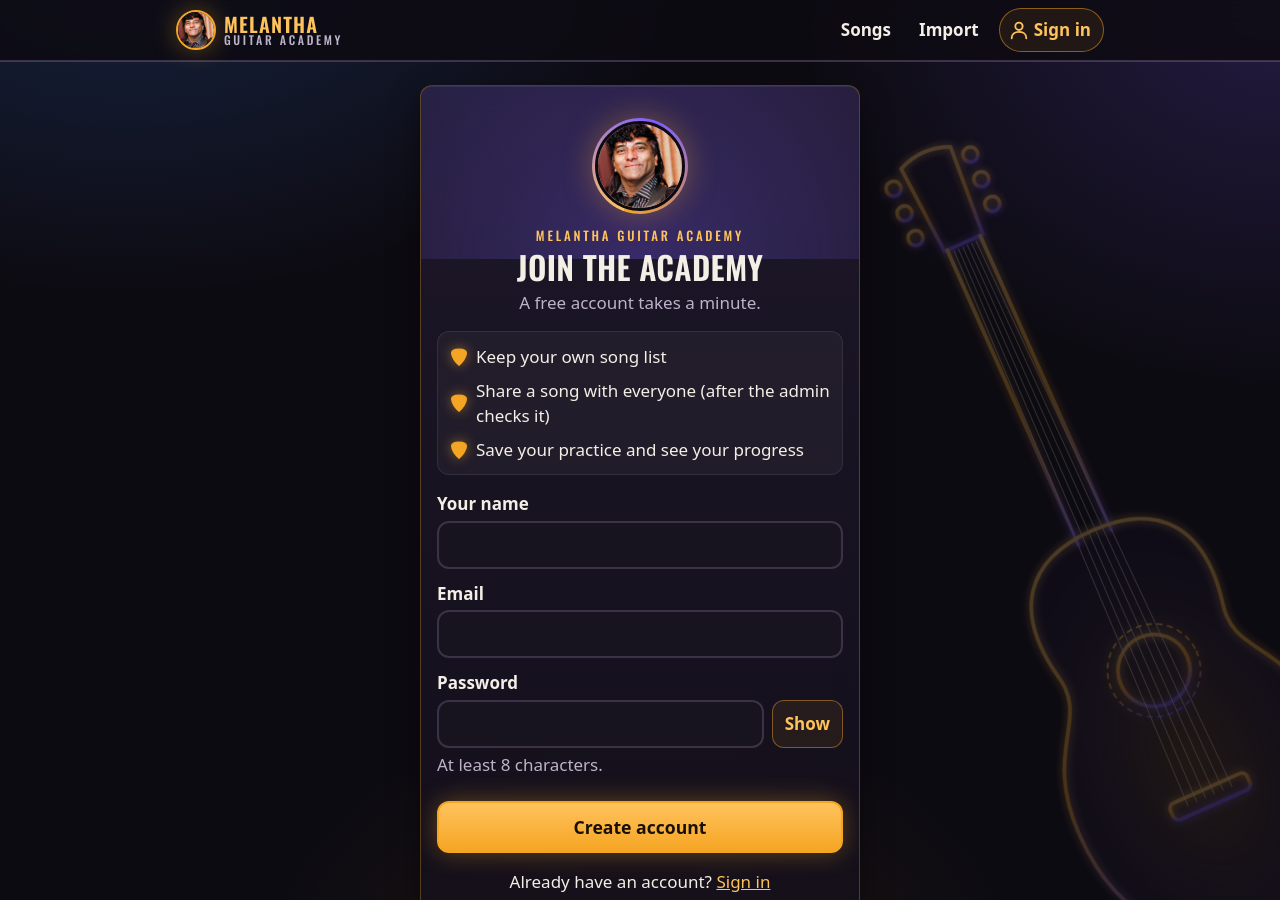
Test case: accounts › creates an account: sends name, email and password, then shows the initials and a welcome
Expected: the heading "Join the academy" is shown, [517,243,763,290]
Step 1. Type "Isura Perera" into the field labelled "Your name" → (640, 545), box [437,521,843,569]
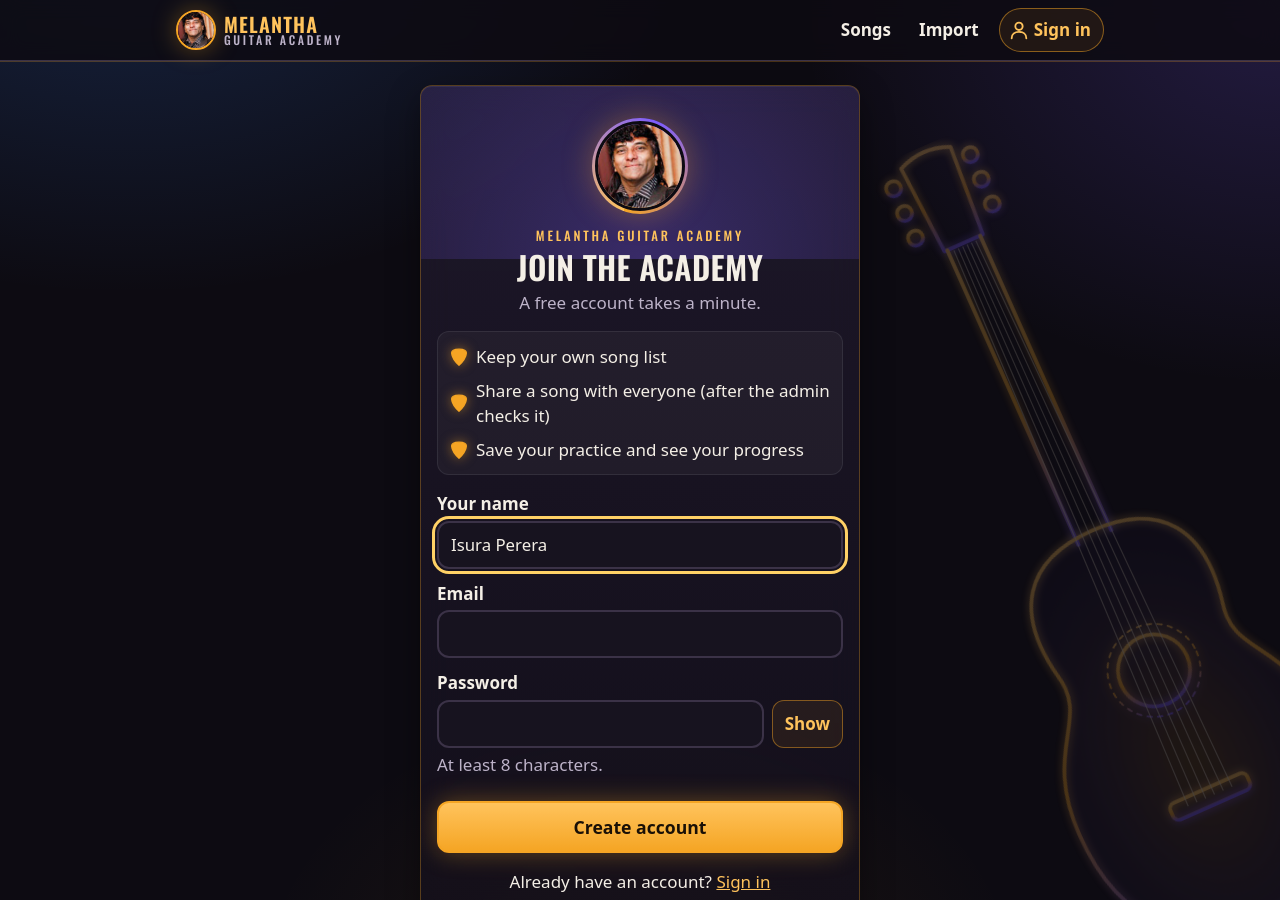
Step 2. Type "isura@example.com" into the field labelled "Email" → (640, 634), box [437,610,843,658]
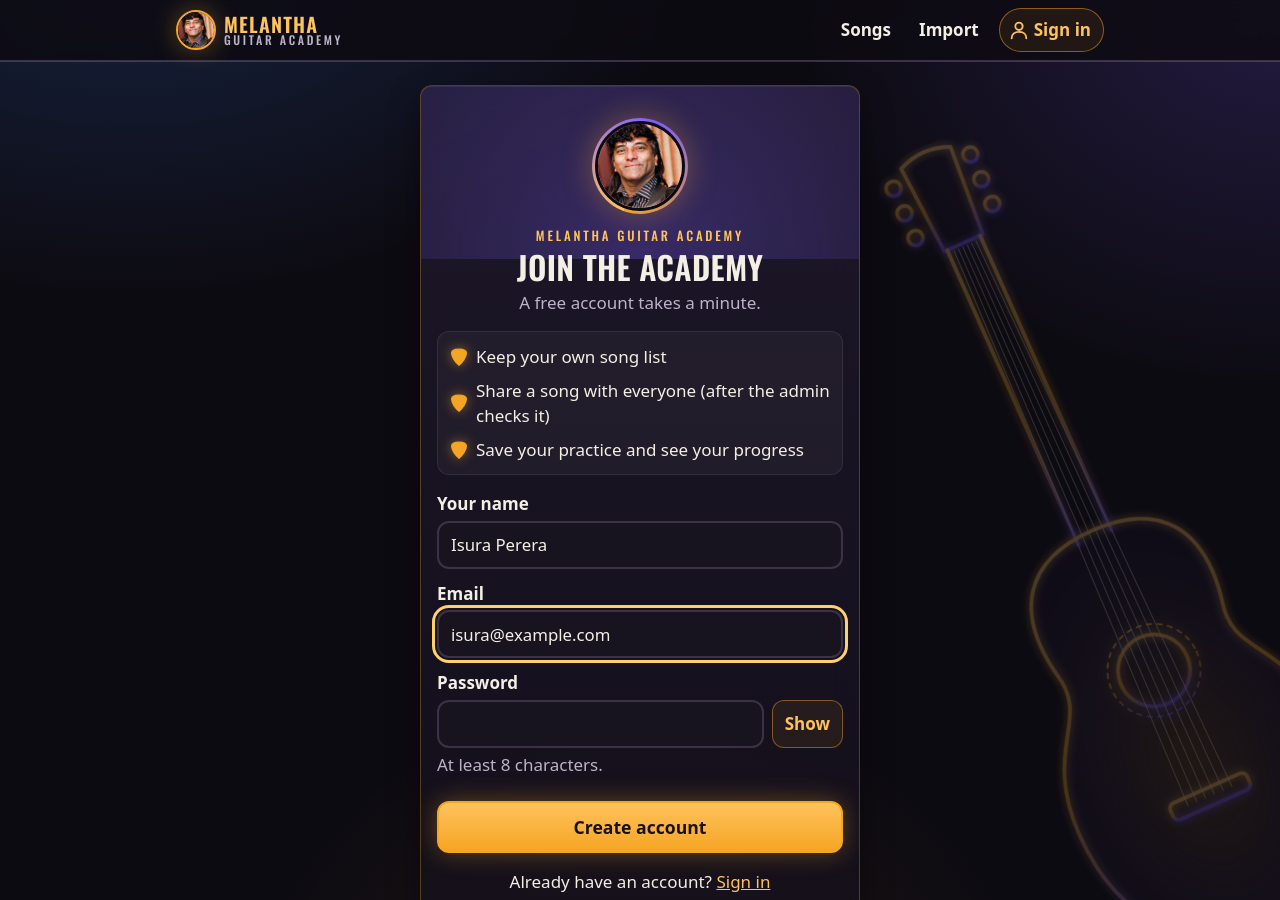
Step 3. Type "guitar-123" into the password field labelled "Password" → (600, 724), box [437,700,764,748]
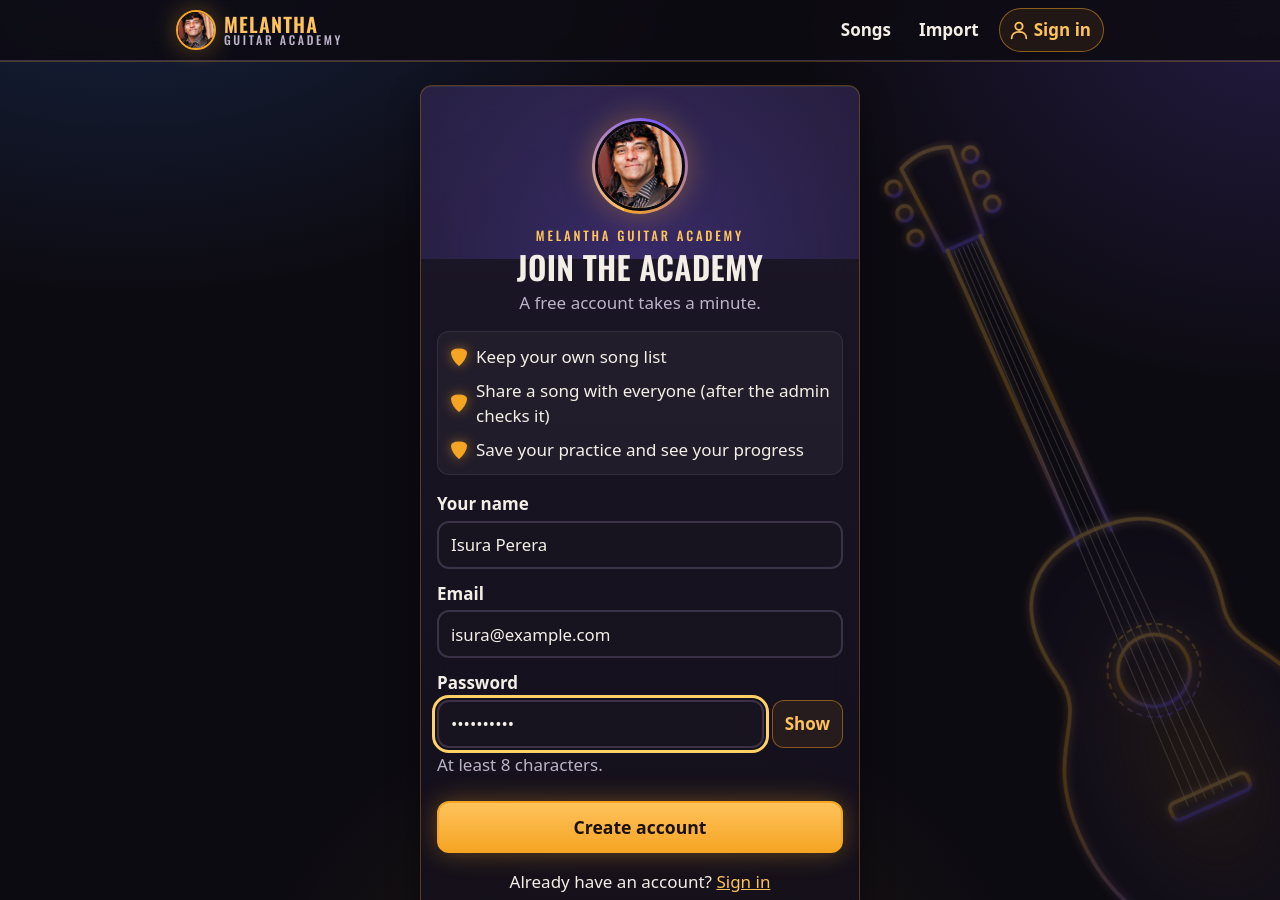
Step 4. Click the button "Create account" → (640, 828), box [437,802,843,854]
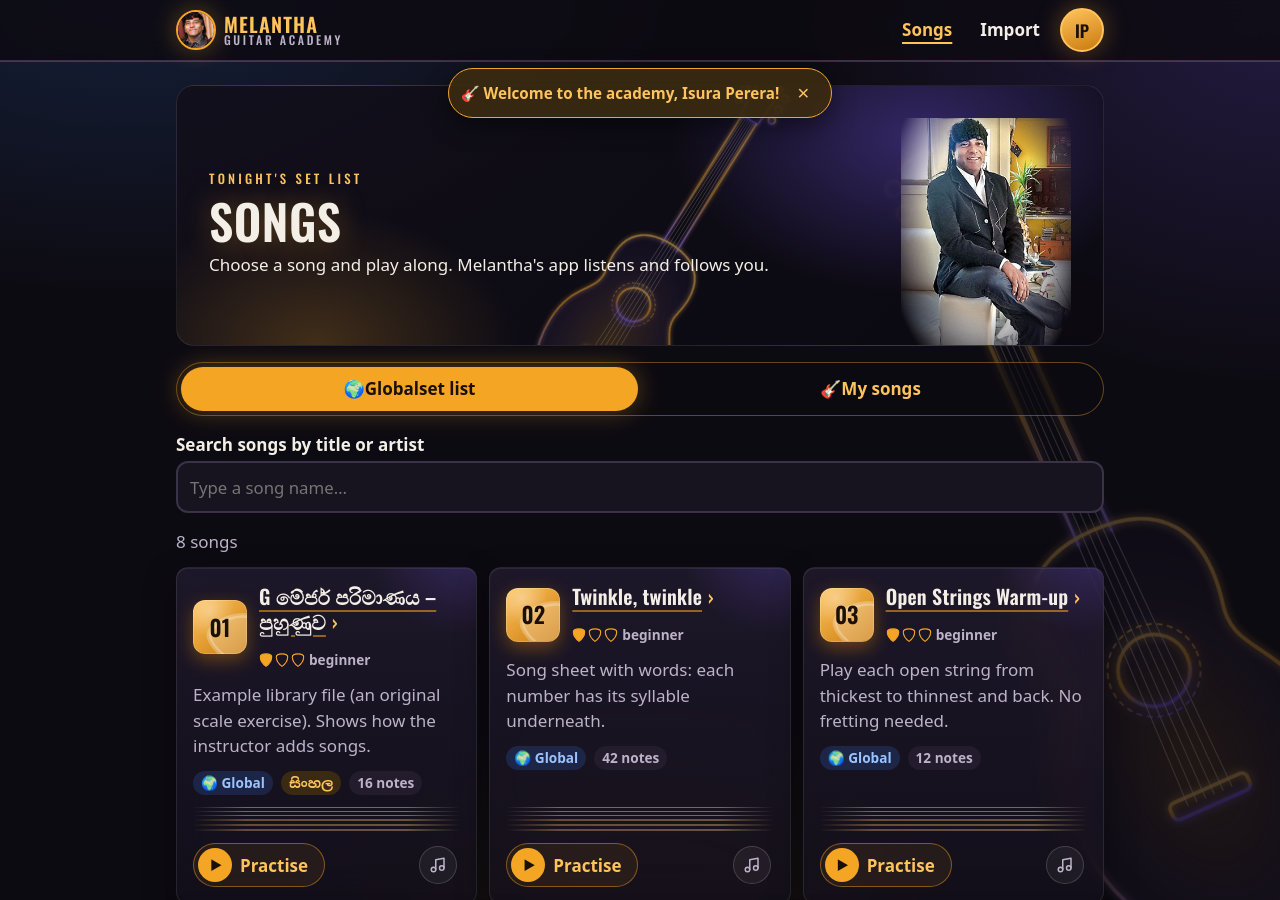
Result: the button with aria-label "Account: Isura Perera" reads "IP" at [1060,8,1104,52]
Result: the element with test id "welcome-banner" shows "Welcome to the academy, Isura Perera!" at [484,83,779,103]
